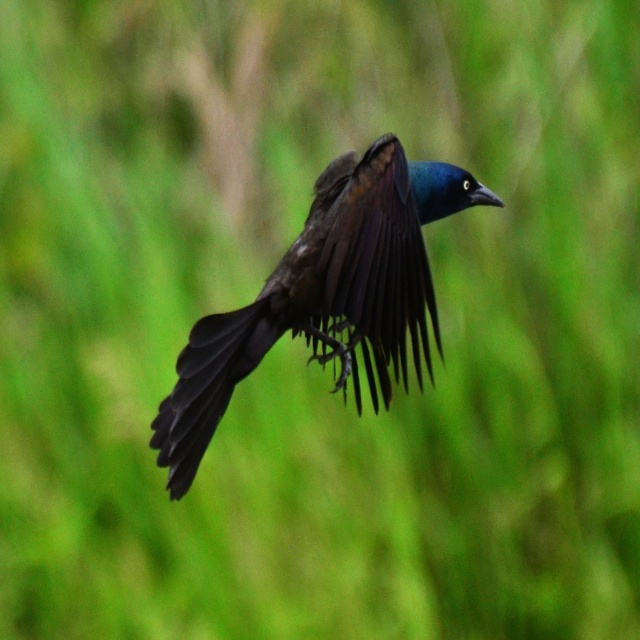Raven: (140, 123, 502, 494)
